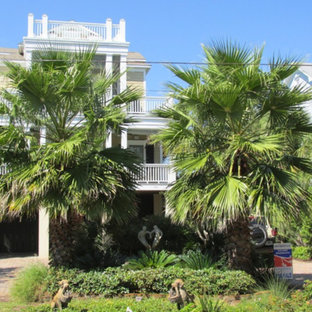tree: (163, 47, 310, 276), (6, 51, 127, 270)
